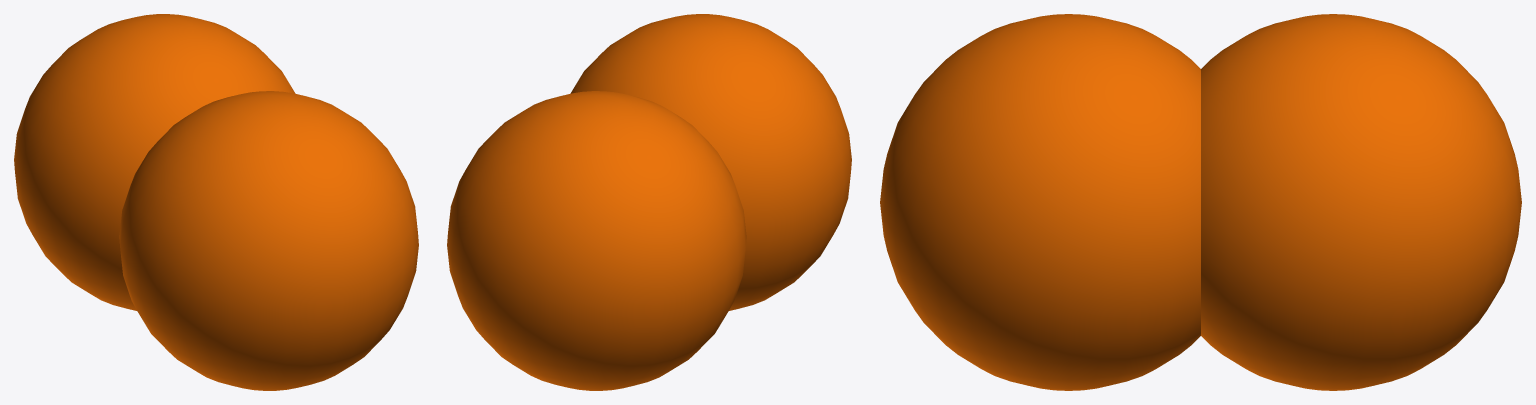
Rendered from cheeks.fbx.
3 renders of one model, left to right at view 1: azimuth 30°, elevation 25°; view 2: azimuth 150°, elevation 25°; view 3: azimuth 270°, elevation 25°, orthographic. The views are drawn at different scales.
Parts seen in each view (by area): view 1: Sphere, Sphere.001; view 2: Sphere.001, Sphere; view 3: Sphere, Sphere.001.
Boxes of the visible parts, left/top/right/bottom form: Sphere: left=119, top=91, right=418, bottom=390; Sphere.001: left=14, top=14, right=295, bottom=310; Sphere.001: left=447, top=91, right=746, bottom=390; Sphere: left=570, top=14, right=851, bottom=310; Sphere: left=880, top=14, right=1200, bottom=390; Sphere.001: left=1201, top=14, right=1521, bottom=390.
Bounding box in the file's own units: 288 × 288 × 490.
